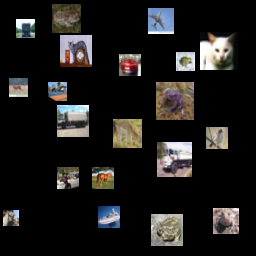airplane: (148, 8, 174, 34)
automobile: (119, 54, 141, 76), (57, 167, 79, 189)
bird: (206, 127, 228, 149)
cat: (200, 32, 238, 70), (60, 35, 92, 67)
deer: (113, 119, 142, 148), (9, 78, 28, 97)
frog: (156, 82, 194, 120), (151, 214, 183, 246), (52, 4, 81, 33), (213, 208, 239, 234), (176, 52, 195, 71)
ship: (98, 206, 120, 228), (48, 82, 67, 101)
